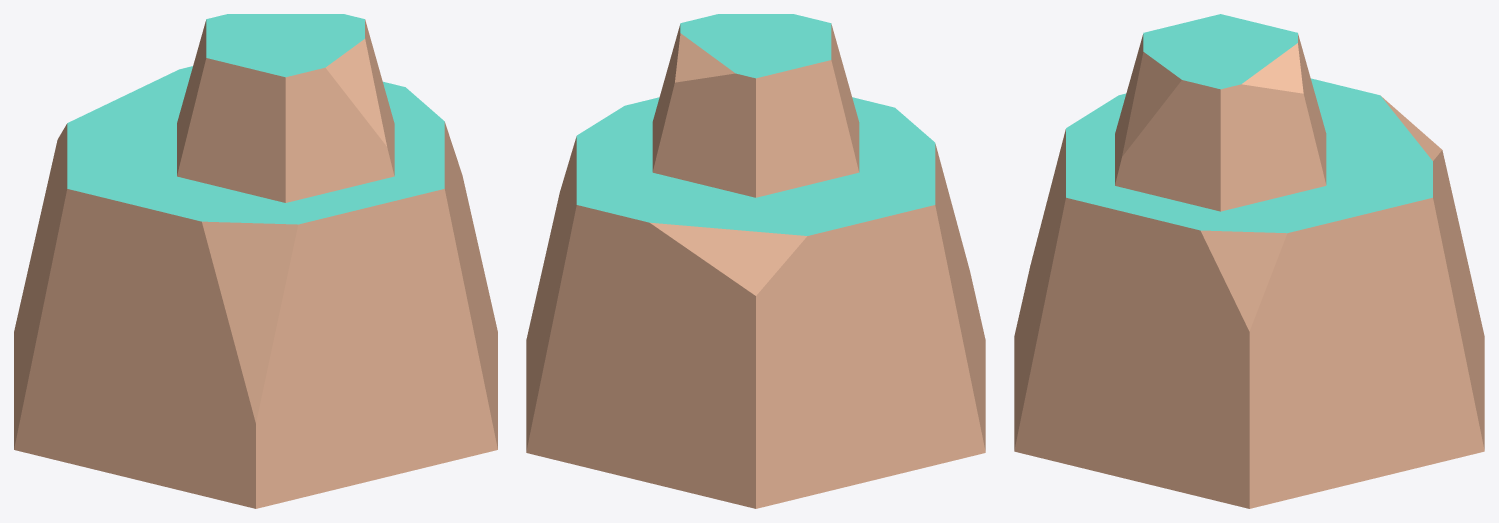
The model's file is rock_smallE.gltf.
The picture shows the model from 3 angles, left to right: view 1: azimuth 30°, elevation 25°; view 2: azimuth 150°, elevation 25°; view 3: azimuth 270°, elevation 25°; orthographic projection. The views are drawn at different scales.
Visible parts, largest first — view 1: rock_smallE; view 2: rock_smallE; view 3: rock_smallE.
Part boxes in pixels (x1,y1,x2,y2): rock_smallE: [14, 14, 497, 508]; rock_smallE: [526, 14, 985, 508]; rock_smallE: [1014, 14, 1484, 508].
Size of the model in its own units: 0.3608 by 0.2562 by 0.3125.
